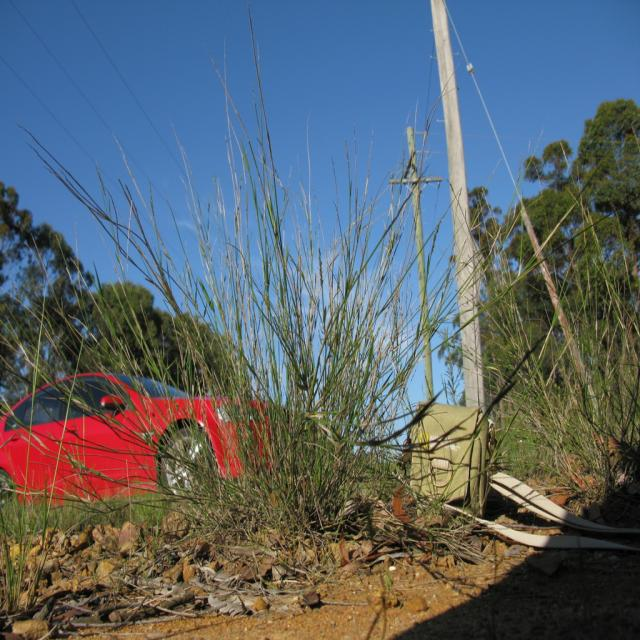Passenger Car: (1, 372, 285, 490)
